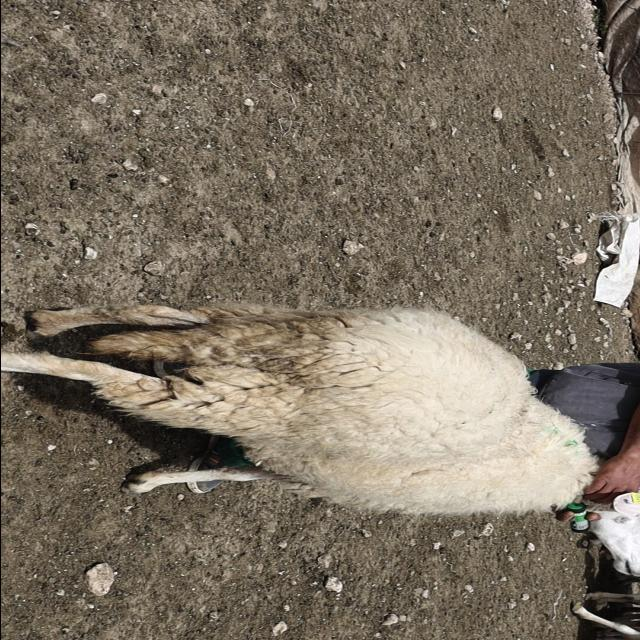Score_4: (1, 305, 598, 515)
